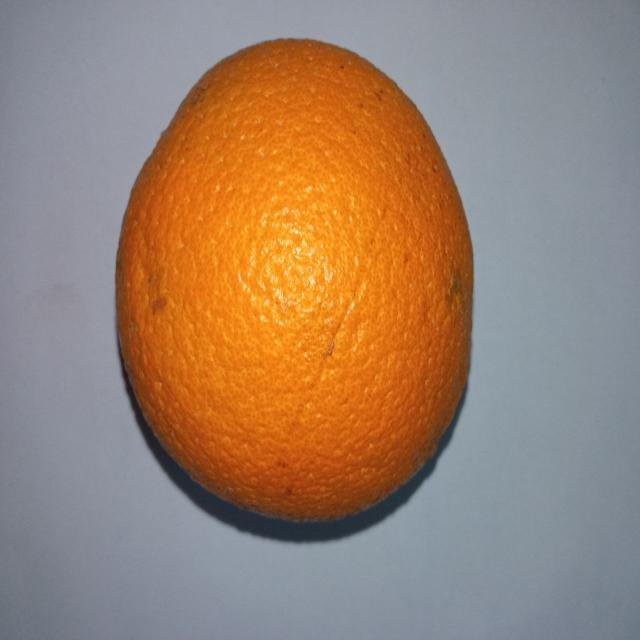fresh_orange: (114, 36, 473, 524)
